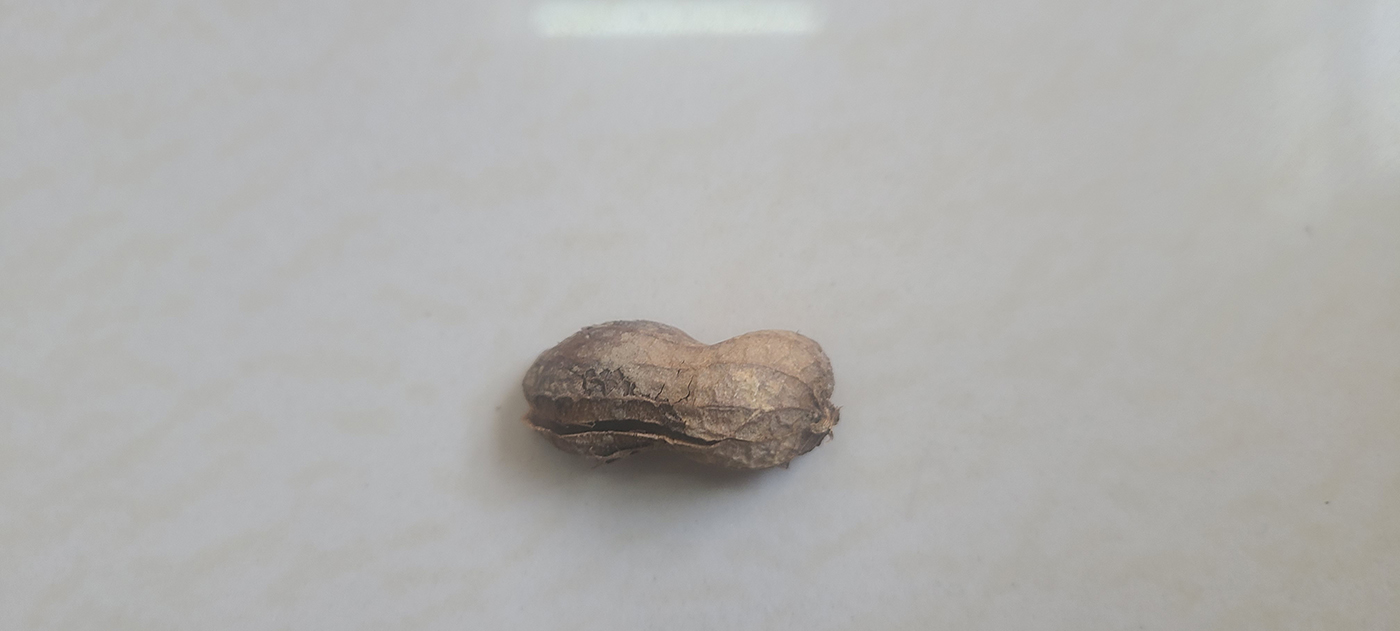l: (519, 317, 839, 479)
